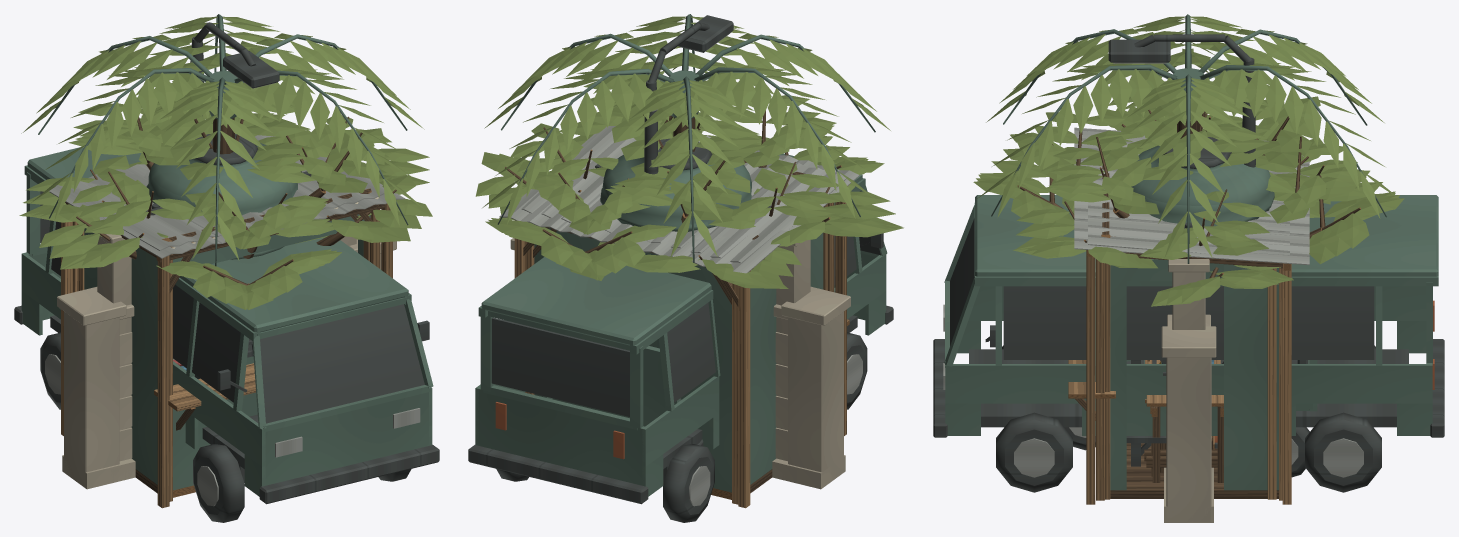
The picture shows the model from 3 angles, left to right: view 1: azimuth 30°, elevation 25°; view 2: azimuth 150°, elevation 25°; view 3: azimuth 270°, elevation 25°; orthographic projection.
Parts seen in each view (by area): view 1: minibus, palm, broadleaf-tree, acacia, kiosk, wall, canopy, water-tank, market-stall, gate, street-lamp; view 2: minibus, palm, broadleaf-tree, kiosk, acacia, wall, market-stall, canopy, water-tank, street-lamp, gate, three-wheeler; view 3: minibus, palm, kiosk, broadleaf-tree, acacia, market-stall, wall, water-tank, canopy, street-lamp, gate, three-wheeler.
Boxes of the visible parts, bbox=[...] form: minibus: bbox=[14, 147, 439, 522]; palm: bbox=[21, 14, 424, 266]; broadleaf-tree: bbox=[68, 81, 391, 258]; acacia: bbox=[19, 108, 432, 309]; kiosk: bbox=[49, 135, 405, 501]; wall: bbox=[57, 239, 396, 489]; canopy: bbox=[61, 197, 392, 508]; water-tank: bbox=[146, 134, 297, 379]; market-stall: bbox=[70, 156, 384, 370]; gate: bbox=[93, 233, 356, 482]; street-lamp: bbox=[190, 22, 279, 115]; minibus: bbox=[468, 153, 893, 522]; palm: bbox=[482, 14, 890, 262]; broadleaf-tree: bbox=[510, 71, 842, 234]; kiosk: bbox=[499, 131, 859, 504]; acacia: bbox=[475, 109, 903, 288]; wall: bbox=[510, 238, 850, 489]; market-stall: bbox=[521, 126, 846, 290]; canopy: bbox=[514, 186, 847, 508]; water-tank: bbox=[600, 138, 751, 231]; street-lamp: bbox=[644, 15, 733, 174]; gate: bbox=[772, 240, 810, 482]; three-wheeler: bbox=[558, 335, 703, 445]; minibus: bbox=[933, 195, 1444, 492]; palm: bbox=[976, 14, 1400, 263]; kiosk: bbox=[1068, 127, 1309, 500]; broadleaf-tree: bbox=[1010, 85, 1367, 259]; acacia: bbox=[973, 107, 1404, 306]; market-stall: bbox=[1088, 128, 1289, 499]; wall: bbox=[1161, 314, 1216, 522]; water-tank: bbox=[1131, 137, 1274, 466]; canopy: bbox=[1086, 250, 1291, 504]; street-lamp: bbox=[1108, 34, 1255, 167]; gate: bbox=[1168, 259, 1209, 329]; three-wheeler: bbox=[1064, 360, 1318, 477].
Size of the model in its own units: 3.93 by 3.83 by 4.3.
1 material, 1 textured.
